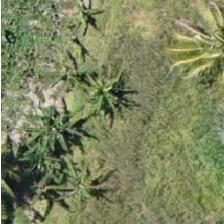coconut_tree: (174, 0, 223, 81)
